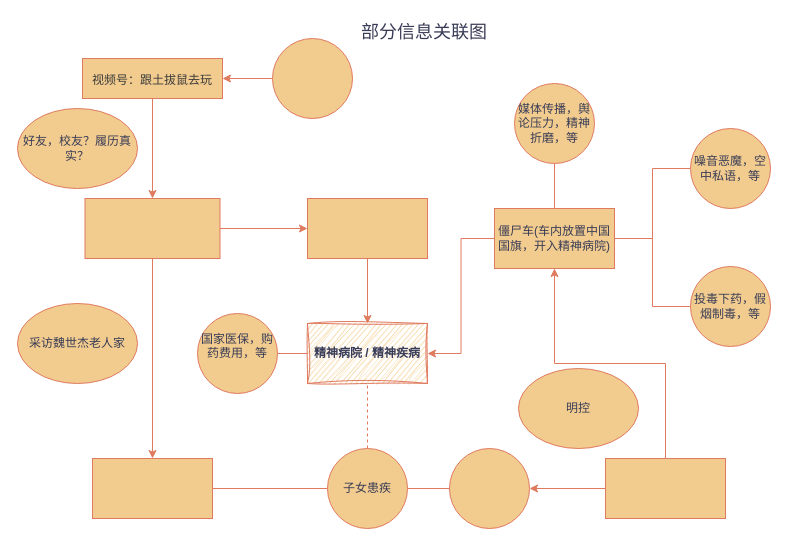
The diagram is 788 pixels wide and 546 high, and some of its shapes have lost their labels. Here are the shapes that lost their labels. From the top down, the centre of each, then its label:
At point (312, 78): "获取24小时视奸内容".
At point (152, 228): "视频号：花径教育(林巨家庭教育)".
At point (367, 228): "心理精神健康领域".
At point (152, 488): "魏世杰一家".
At point (489, 488): "舌头被毒等相同的症状".
At point (665, 488): "高中时候被弄，暗控，现在是明控".
